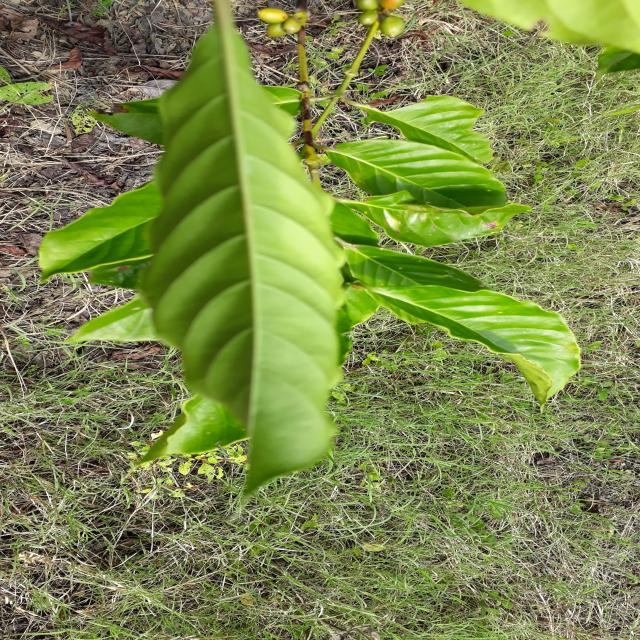Sanas: (79, 32, 358, 493)
